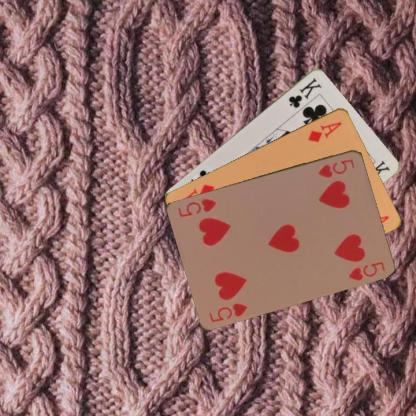5h: (206, 299, 249, 324), (315, 156, 356, 179)
Ad: (305, 118, 343, 144)
Kc: (286, 75, 324, 109)
